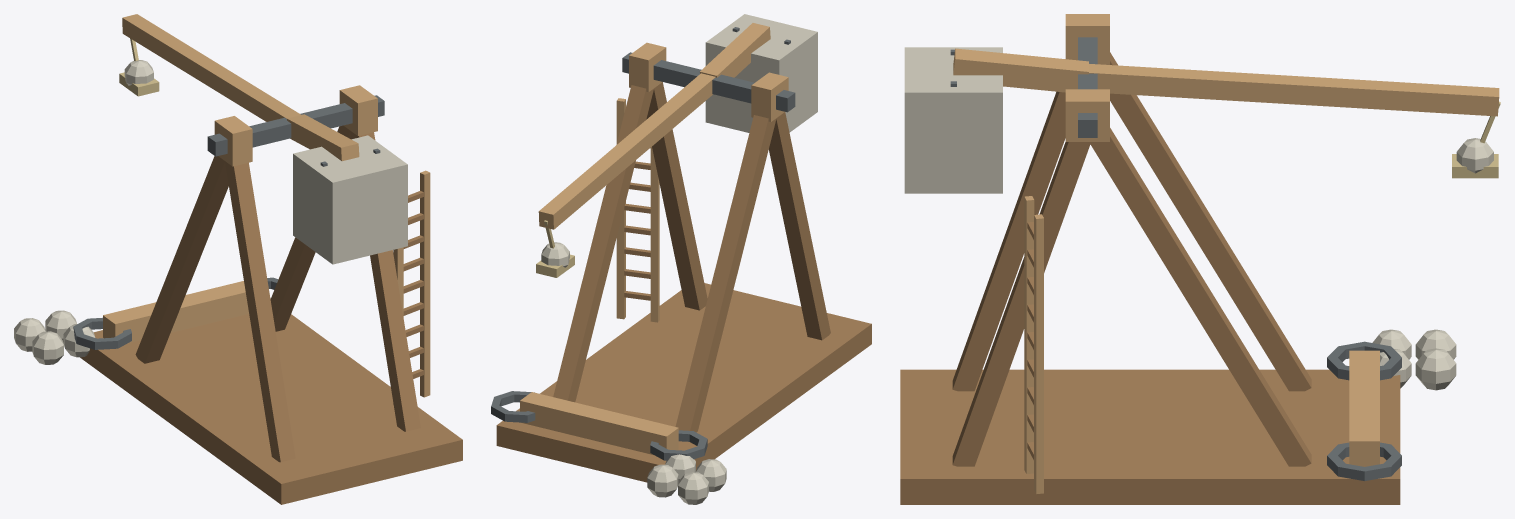
The model's file is counterweight-trebuchet.glb.
3 views of the same model, side by side, from view 1: azimuth 30°, elevation 25°; view 2: azimuth 150°, elevation 25°; view 3: azimuth 270°, elevation 25° (orthographic). The views are drawn at different scales.
Visible parts, largest first — view 1: counterweight-trebuchet, throw-arm/limestone, throw-arm/oak, throw-arm/straw; view 2: counterweight-trebuchet, throw-arm/limestone, throw-arm/oak, throw-arm/straw; view 3: counterweight-trebuchet, throw-arm/oak, throw-arm/limestone, throw-arm/straw.
Part boxes in pixels (bbox=[...]): counterweight-trebuchet: bbox=[14, 85, 462, 504]; throw-arm/limestone: bbox=[124, 60, 407, 264]; throw-arm/oak: bbox=[122, 14, 359, 161]; throw-arm/straw: bbox=[119, 38, 159, 96]; counterweight-trebuchet: bbox=[491, 42, 871, 504]; throw-arm/limestone: bbox=[541, 14, 817, 267]; throw-arm/oak: bbox=[538, 23, 770, 229]; throw-arm/straw: bbox=[536, 220, 574, 277]; counterweight-trebuchet: bbox=[900, 14, 1456, 504]; throw-arm/oak: bbox=[953, 48, 1499, 116]; throw-arm/limestone: bbox=[904, 47, 1493, 193]; throw-arm/straw: bbox=[1452, 101, 1500, 178].
Size of the model in its own units: 4.04 by 4.9 by 6.72.
